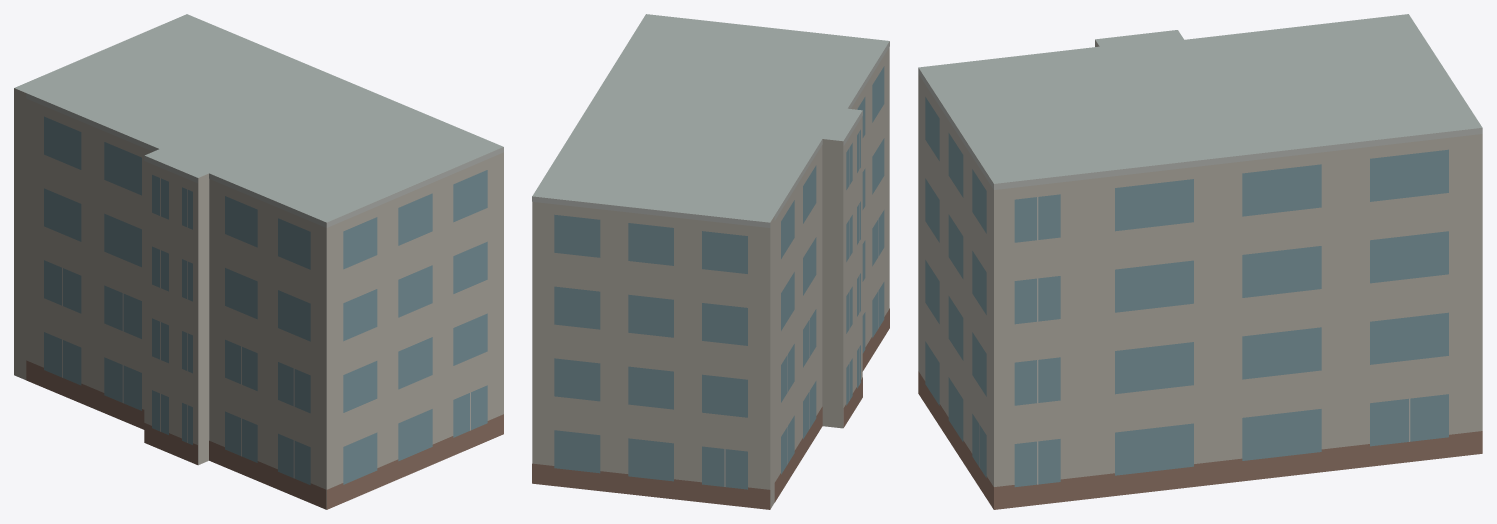
The model's file is survey-upis-32733317.glb.
The picture shows the model from 3 angles, left to right: view 1: azimuth 30°, elevation 25°; view 2: azimuth 150°, elevation 25°; view 3: azimuth 270°, elevation 25°; orthographic projection. The views are drawn at different scales.
Visible parts, largest first — view 1: survey-upis-32733317.tmp; view 2: survey-upis-32733317.tmp; view 3: survey-upis-32733317.tmp.
Part boxes in pixels (box(x1,y1,x2,y2)): survey-upis-32733317.tmp: box(14, 14, 503, 509); survey-upis-32733317.tmp: box(532, 14, 889, 509); survey-upis-32733317.tmp: box(918, 14, 1482, 509).
Size of the model in its own units: 14.49 by 12.95 by 20.33.
